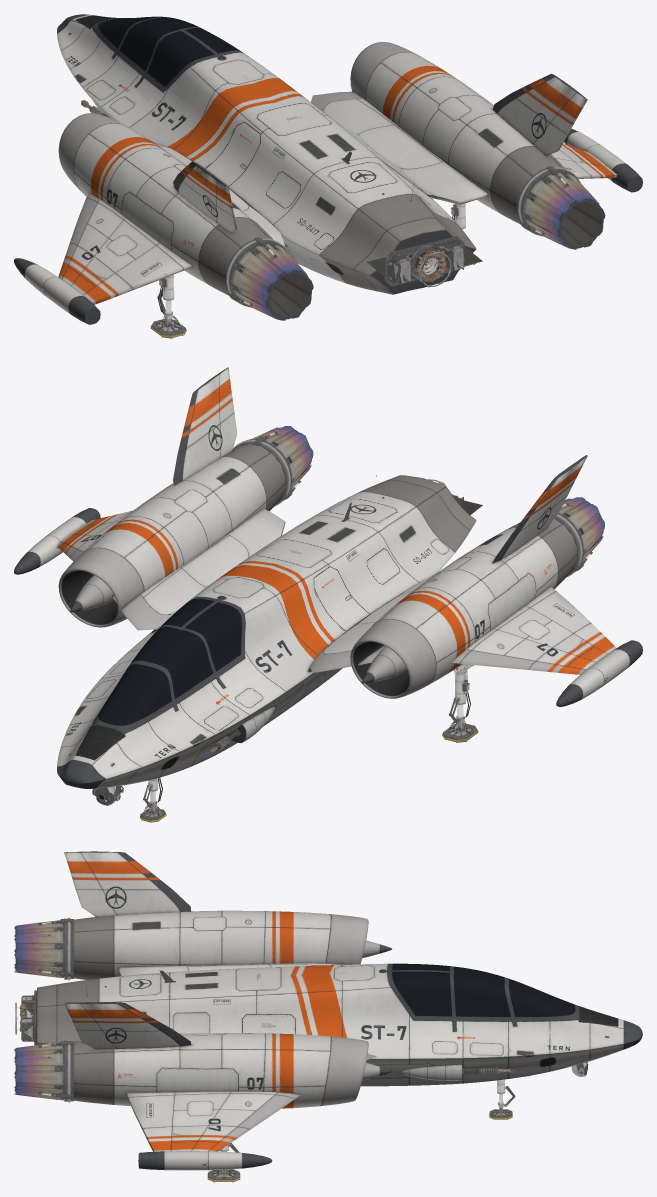
File: tern_lod1.gltf
3 views of the same model, one above another, from view 1: azimuth 30°, elevation 25°; view 2: azimuth 150°, elevation 25°; view 3: azimuth 270°, elevation 25° (orthographic). The views are drawn at different scales.
Parts seen in each view (by area): view 1: Hull, EngineNozzle_R, EngineNozzle_L, Glass, DriftDrive.001, Decals, GearMainL; view 2: Hull, Glass, EngineNozzle_R, EngineNozzle_L, Decals, GearMainL, GearNose; view 3: Hull, Glass, EngineNozzle_R, EngineNozzle_L, Decals, DriftDrive.001, GearNose, GearMainR.
Part boxes in pixels (box(x1,y1,x2,y2)): Hull: box(14, 14, 642, 324); EngineNozzle_R: box(517, 166, 605, 249); EngineNozzle_L: box(225, 237, 313, 320); Glass: box(98, 16, 239, 86); DriftDrive.001: box(366, 236, 482, 287); Decals: box(66, 56, 574, 276); GearMainL: box(150, 274, 186, 338); Hull: box(14, 367, 642, 788); Glass: box(98, 599, 241, 725); EngineNozzle_R: box(233, 426, 313, 506); EngineNozzle_L: box(554, 497, 604, 577); Decals: box(66, 425, 574, 760); GearMainL: box(442, 666, 478, 742); GearNose: box(140, 777, 166, 822); Hull: box(36, 851, 642, 1170); Glass: box(392, 963, 575, 1016); EngineNozzle_R: box(14, 1040, 73, 1102); EngineNozzle_L: box(14, 917, 73, 980); Decals: box(105, 886, 569, 1131); DriftDrive.001: box(15, 990, 36, 1045); GearNose: box(489, 1079, 515, 1119); GearMainR: box(207, 1143, 240, 1182).
Bounding box in the file's own units: 13.73 × 5.14 × 15.44.
Materials: 5 (4 with a texture image).
